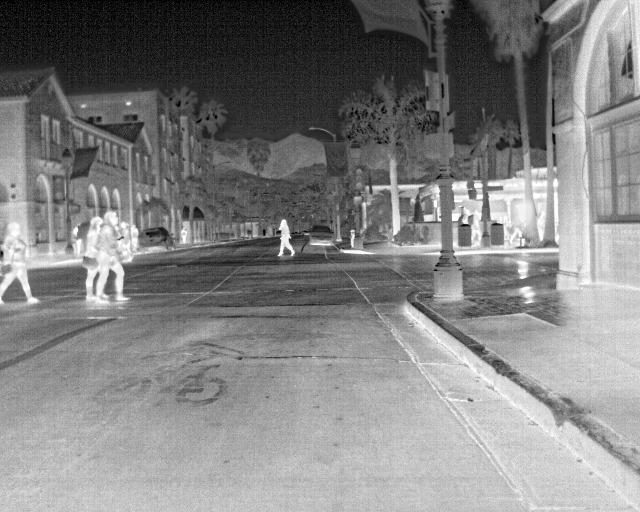bicycle: (137, 226, 172, 252), (307, 222, 335, 248)
empty: (0, 220, 40, 305), (93, 212, 129, 302), (83, 216, 101, 302), (272, 218, 294, 261), (469, 209, 483, 243)
